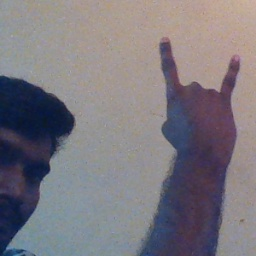V: (153, 33, 245, 165)
